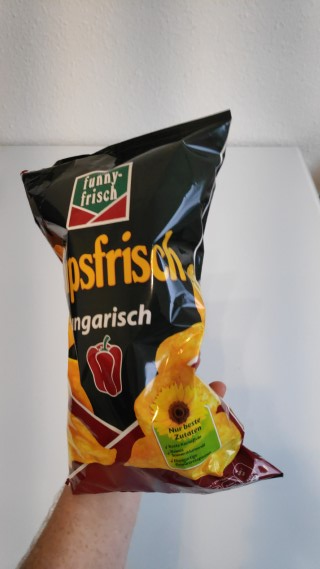chipsfrisch: (19, 107, 286, 495)
